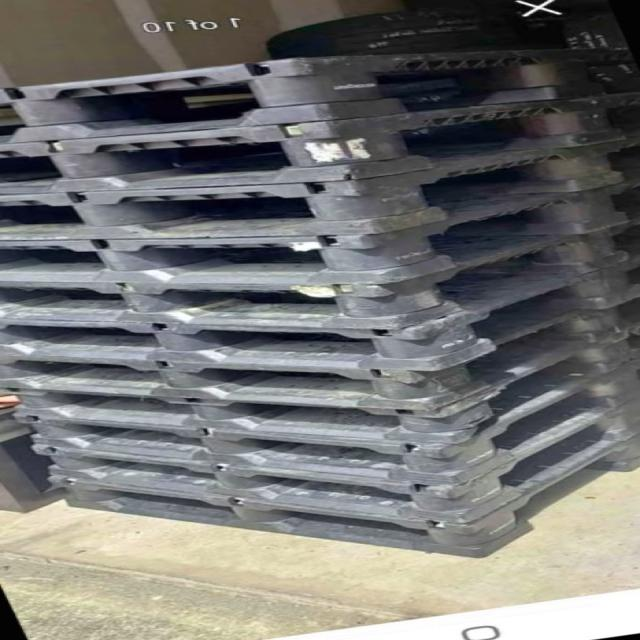non-igps: (0, 339, 639, 490), (0, 282, 639, 426), (0, 385, 639, 529), (0, 316, 639, 452), (0, 249, 639, 380), (0, 210, 639, 340), (50, 428, 640, 563), (0, 80, 639, 204), (0, 174, 639, 298), (0, 127, 639, 249), (0, 35, 639, 150)
